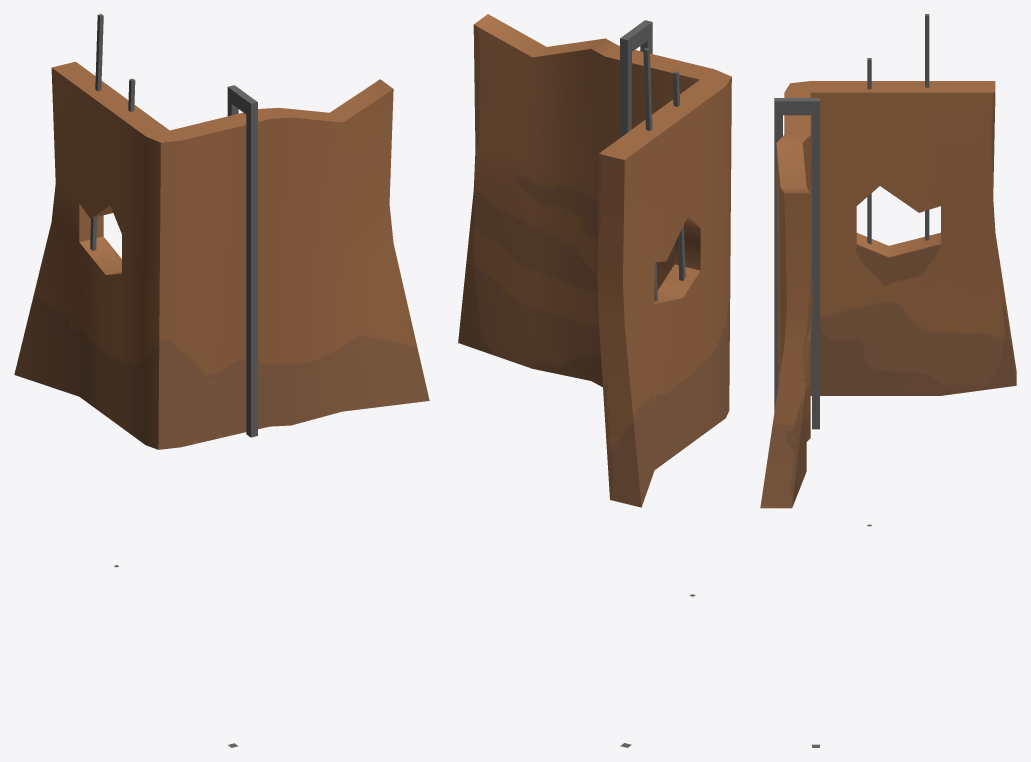
Rendered from Mur3.fbx.
3 renders of one model, left to right at view 1: azimuth 30°, elevation 25°; view 2: azimuth 150°, elevation 25°; view 3: azimuth 270°, elevation 25°, orthographic. The views are drawn at different scales.
Visible parts, largest first — view 1: Ruine Mur 3 Texture, Cube.126, Cube.103; view 2: Ruine Mur 3 Texture, Cube.126, Cube.103, Cube.104; view 3: Ruine Mur 3 Texture, Cube.126, Cube.103.
Part boxes in pixels (<box>): Ruine Mur 3 Texture: <box>14,61,429,449</box>; Cube.126: <box>227,85,257,747</box>; Cube.103: <box>90,14,103,250</box>; Ruine Mur 3 Texture: <box>458,14,731,507</box>; Cube.126: <box>620,20,652,747</box>; Cube.103: <box>643,48,657,301</box>; Cube.104: <box>672,71,695,596</box>; Ruine Mur 3 Texture: <box>760,81,1016,508</box>; Cube.126: <box>774,98,819,747</box>; Cube.103: <box>925,14,929,240</box>.
Bounding box in the file's own units: 559 × 1327 × 444.
